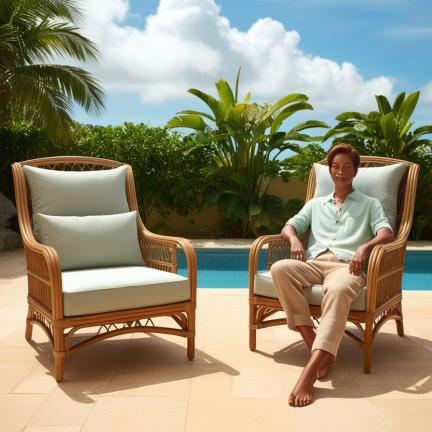empty chair: (12, 156, 197, 381)
guest on chair: (249, 143, 419, 407)
